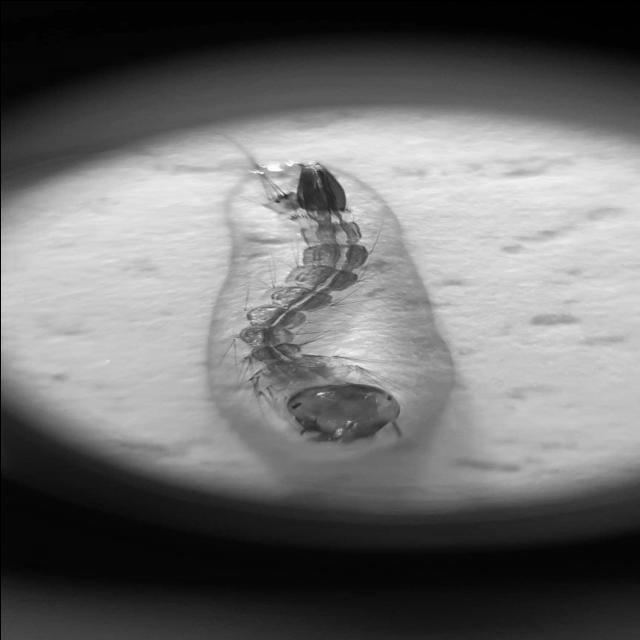larvas: (233, 165, 405, 447)
